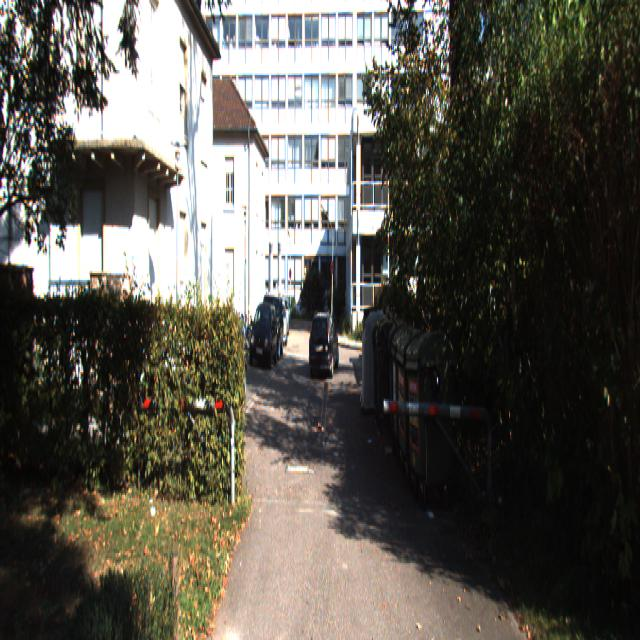Car: (198, 306, 250, 416), (308, 309, 340, 379), (249, 301, 279, 368), (258, 296, 284, 366), (272, 300, 288, 345)
